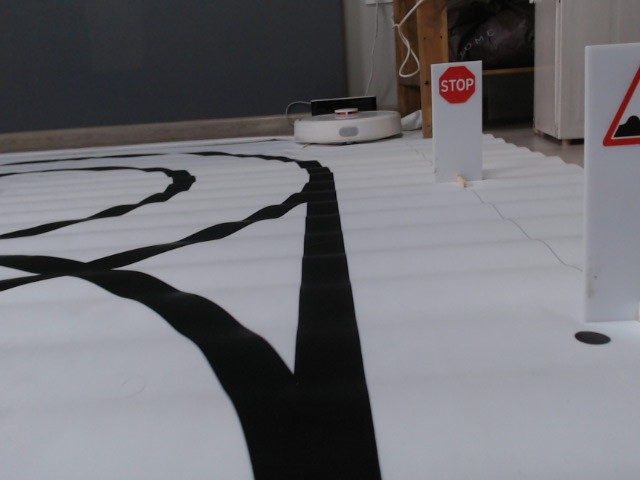Stop: (437, 65, 476, 104)
